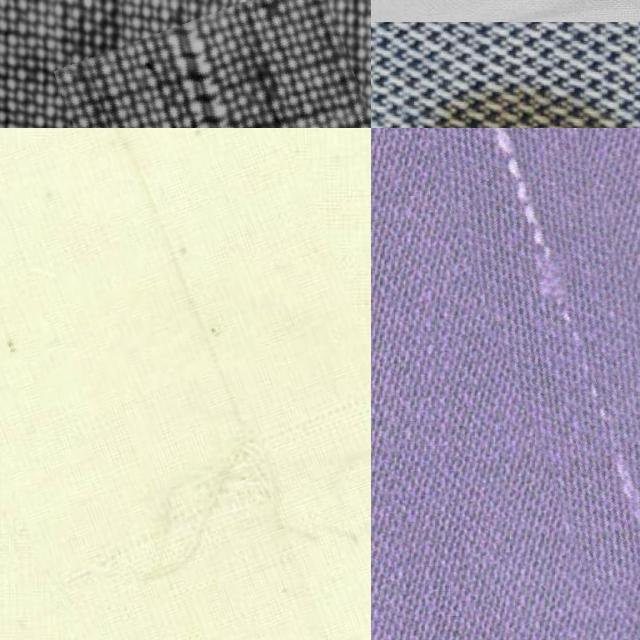Thread_other: (391, 53, 640, 128)
stains: (0, 128, 371, 640), (457, 128, 640, 586), (105, 0, 371, 128)
